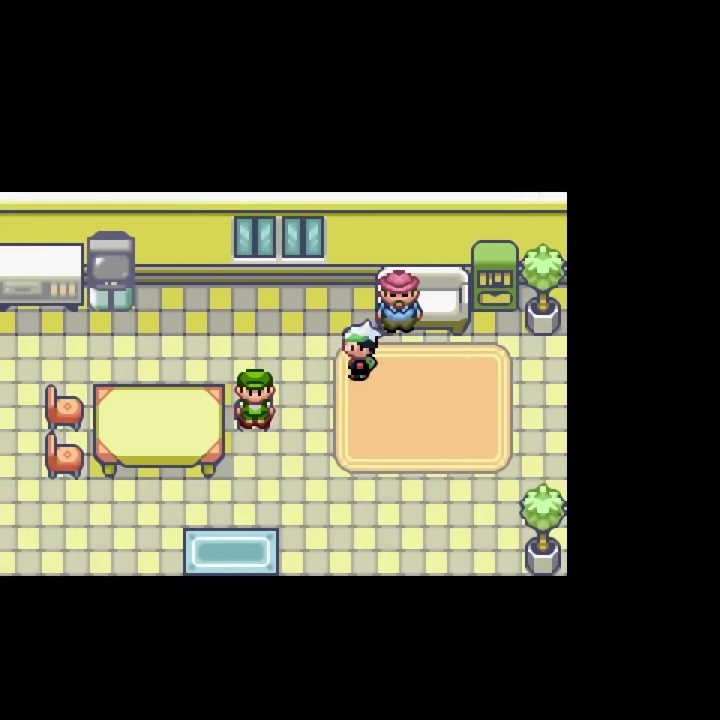exit: (180, 524, 283, 629)
npc: (374, 267, 424, 336), (231, 367, 278, 435), (339, 316, 383, 384)
